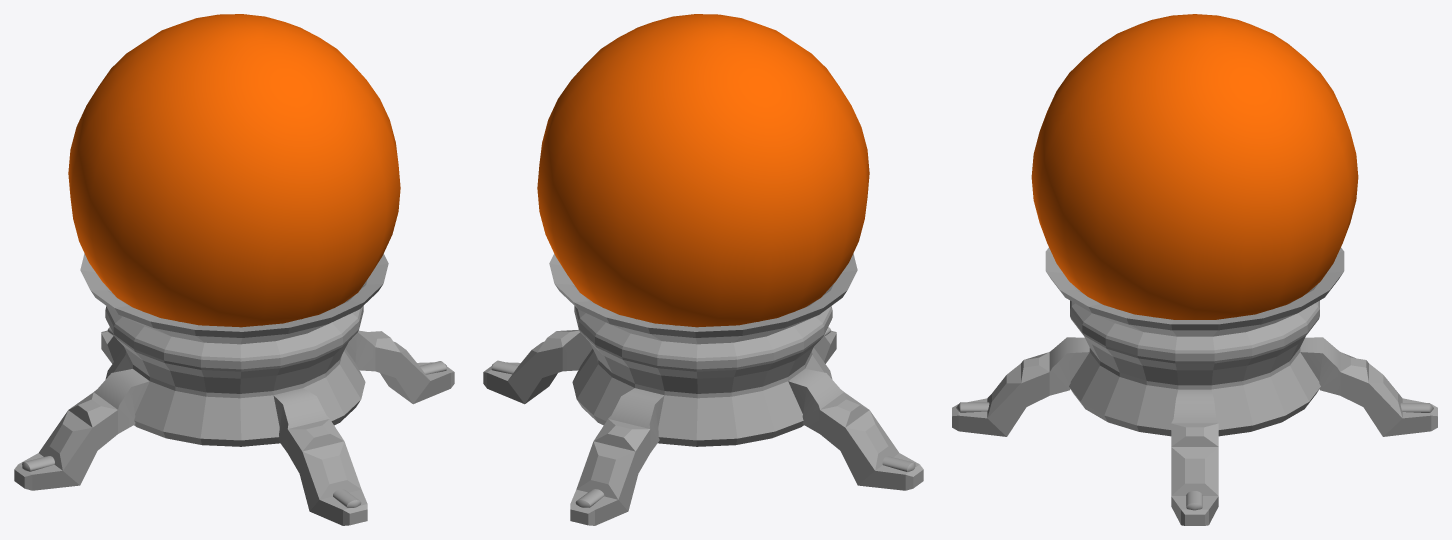
The model's file is CrystalBall.fbx.
3 views of the same model, side by side, from view 1: azimuth 30°, elevation 25°; view 2: azimuth 150°, elevation 25°; view 3: azimuth 270°, elevation 25° (orthographic). The views are drawn at different scales.
Parts seen in each view (by area): view 1: CrystalBall; view 2: CrystalBall; view 3: CrystalBall.
Boxes of the visible parts, x1,y1,x2,y2 form: CrystalBall: [14, 14, 454, 525]; CrystalBall: [483, 14, 923, 525]; CrystalBall: [952, 14, 1437, 525].
Size of the model in its own units: 225 by 204 by 225.
